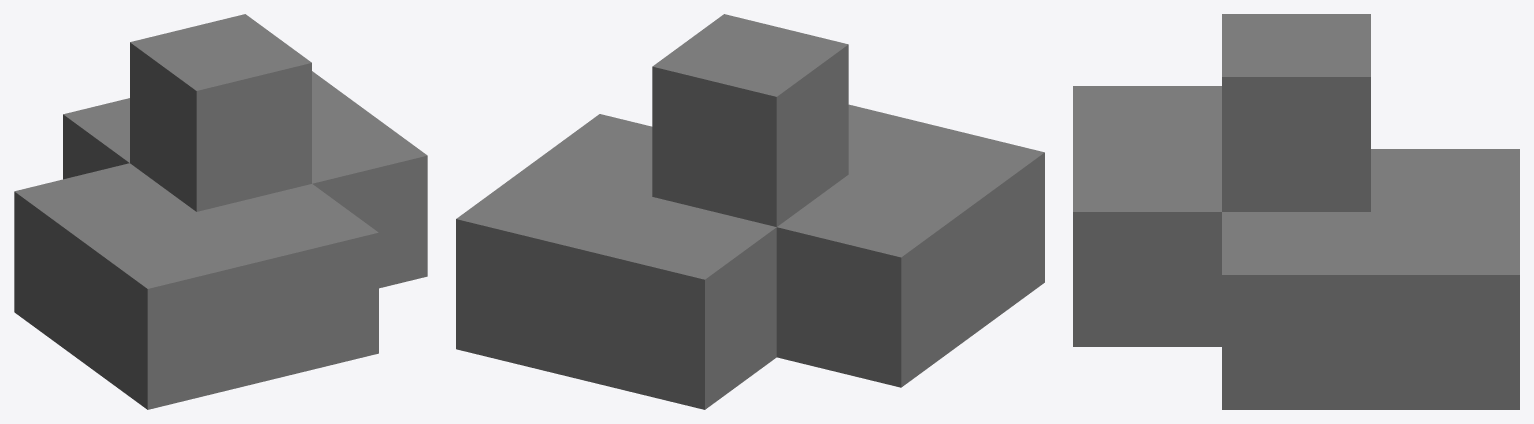
File: prop_rock_small.obj
The picture shows the model from 3 angles, left to right: view 1: azimuth 30°, elevation 25°; view 2: azimuth 150°, elevation 25°; view 3: azimuth 270°, elevation 25°; orthographic projection. The views are drawn at different scales.
Bounding box in the file's own units: 0.3 × 0.2 × 0.3.
1 material, 1 textured.
